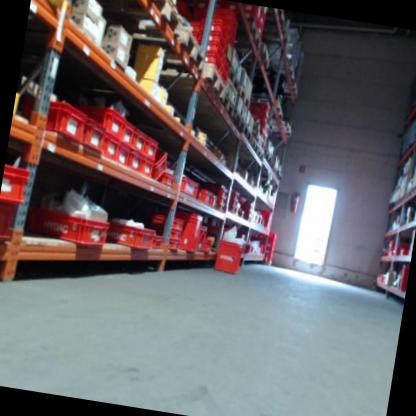pallet: (88, 11, 211, 82), (140, 51, 232, 112), (40, 0, 184, 31), (212, 14, 264, 54), (231, 37, 273, 74), (211, 96, 236, 123), (239, 126, 261, 156), (218, 66, 243, 92), (226, 112, 247, 138), (237, 86, 254, 108)
small_load_carrier: (22, 95, 90, 148), (29, 208, 112, 251), (0, 162, 36, 206), (106, 222, 154, 254), (86, 102, 127, 139), (208, 237, 245, 277), (178, 213, 205, 256), (78, 116, 106, 156), (0, 201, 22, 245), (152, 149, 172, 183), (177, 174, 200, 201), (198, 16, 229, 36), (148, 223, 182, 240), (97, 137, 120, 162), (202, 182, 228, 204), (149, 212, 183, 228), (120, 117, 137, 148), (131, 127, 149, 156), (196, 54, 221, 74), (253, 206, 273, 230), (113, 145, 133, 168), (137, 157, 156, 181), (143, 134, 160, 160), (126, 151, 144, 175), (160, 237, 180, 255), (199, 32, 224, 45), (200, 43, 223, 57), (195, 187, 211, 205), (158, 173, 175, 188), (151, 235, 164, 251), (204, 242, 213, 256), (210, 197, 219, 209), (213, 204, 225, 212)
